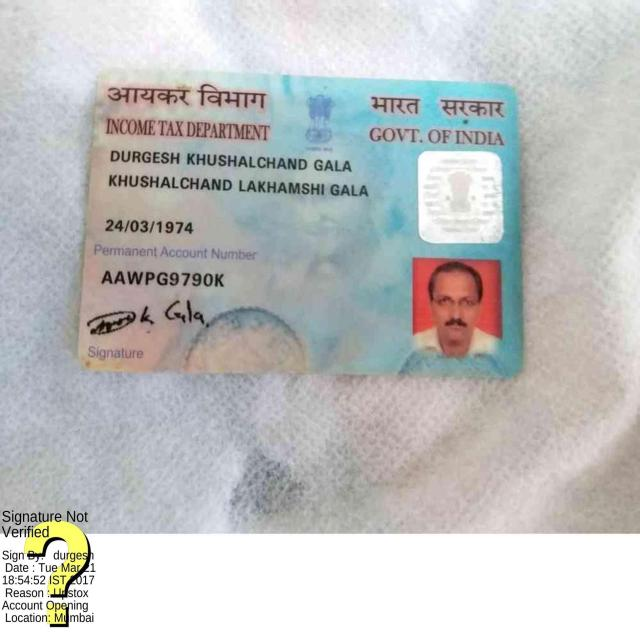pan_card: (82, 76, 518, 376)
